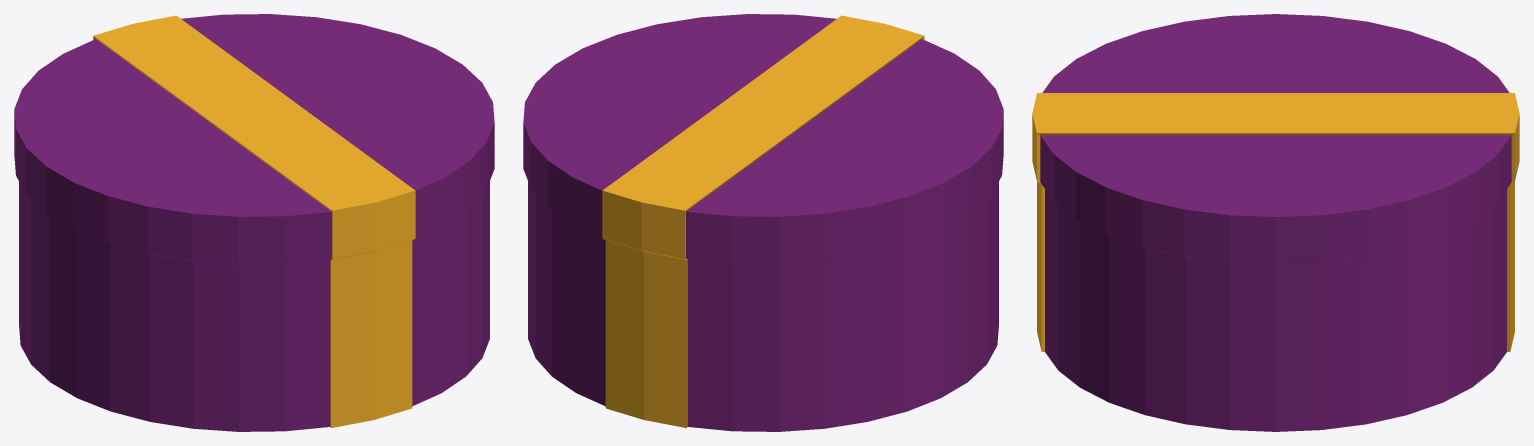
File: gift3.gltf
3 renders of one model, left to right at view 1: azimuth 30°, elevation 25°; view 2: azimuth 150°, elevation 25°; view 3: azimuth 270°, elevation 25°, orthographic.
Parts seen in each view (by area): view 1: Cylinder, Cylinder.001; view 2: Cylinder, Cylinder.001; view 3: Cylinder, Cylinder.001.
Part boxes in pixels (x1,y1,x2,y2): Cylinder: [14, 14, 494, 431]; Cylinder.001: [93, 15, 415, 428]; Cylinder: [523, 14, 1003, 431]; Cylinder.001: [602, 15, 924, 428]; Cylinder: [1040, 14, 1511, 431]; Cylinder.001: [1032, 93, 1519, 351].
Bounding box in the file's own units: 0.2969 × 0.1493 × 0.3009.
